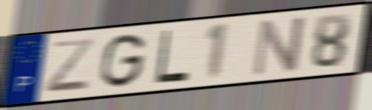1: (202, 21, 231, 83)
8: (309, 12, 352, 70)
G: (97, 31, 149, 90)
L: (153, 27, 190, 85)
N: (249, 14, 309, 79)
Z: (43, 36, 97, 95)
